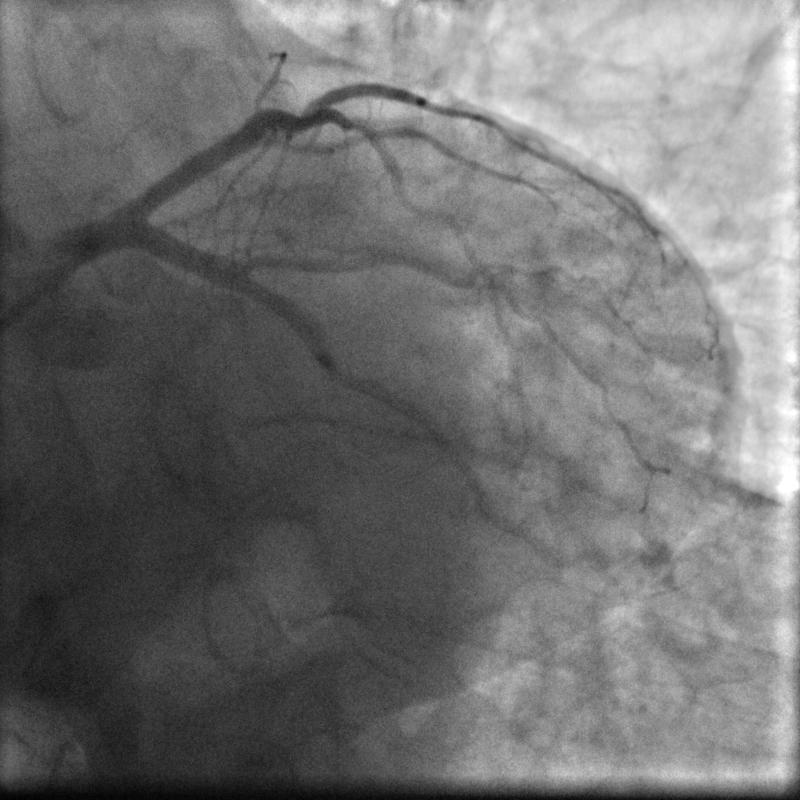Stenosis: (325, 341, 358, 408)
